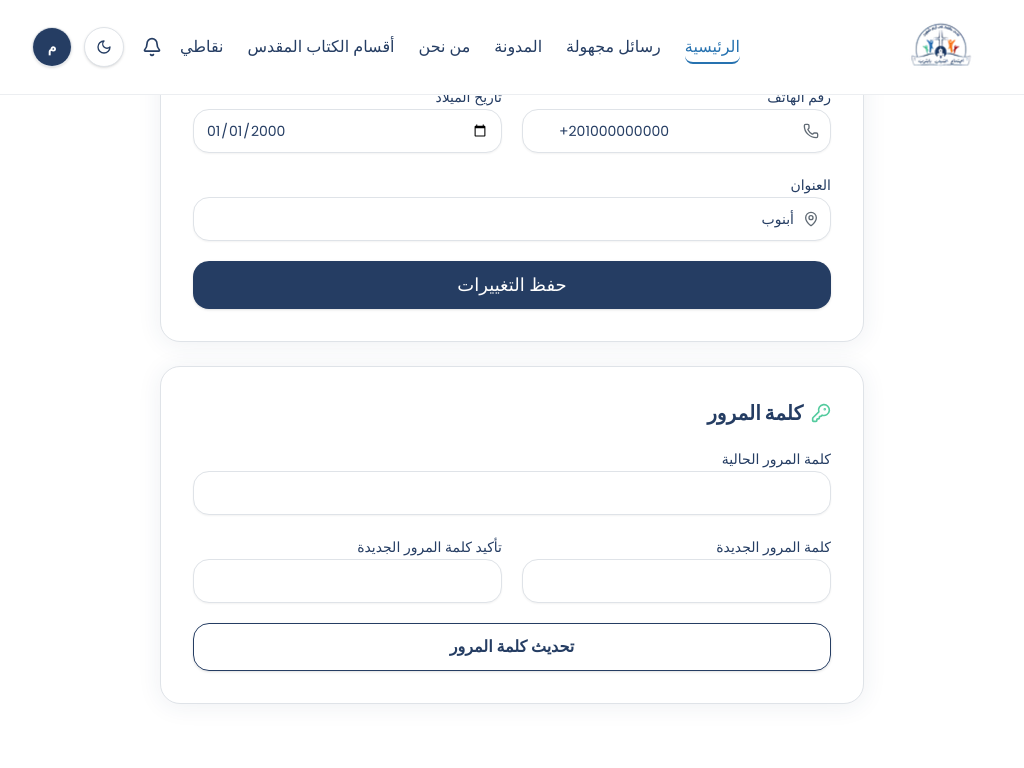
the page of the profile › refuses a password that does not match the confirmation
(page scrolled)
Step 1. Type "OldPass!2026" into the password field labelled "كلمة المرور الحالية" → {"x": 512, "y": 493}, box 193,471 -> 831,515
(page scrolled)
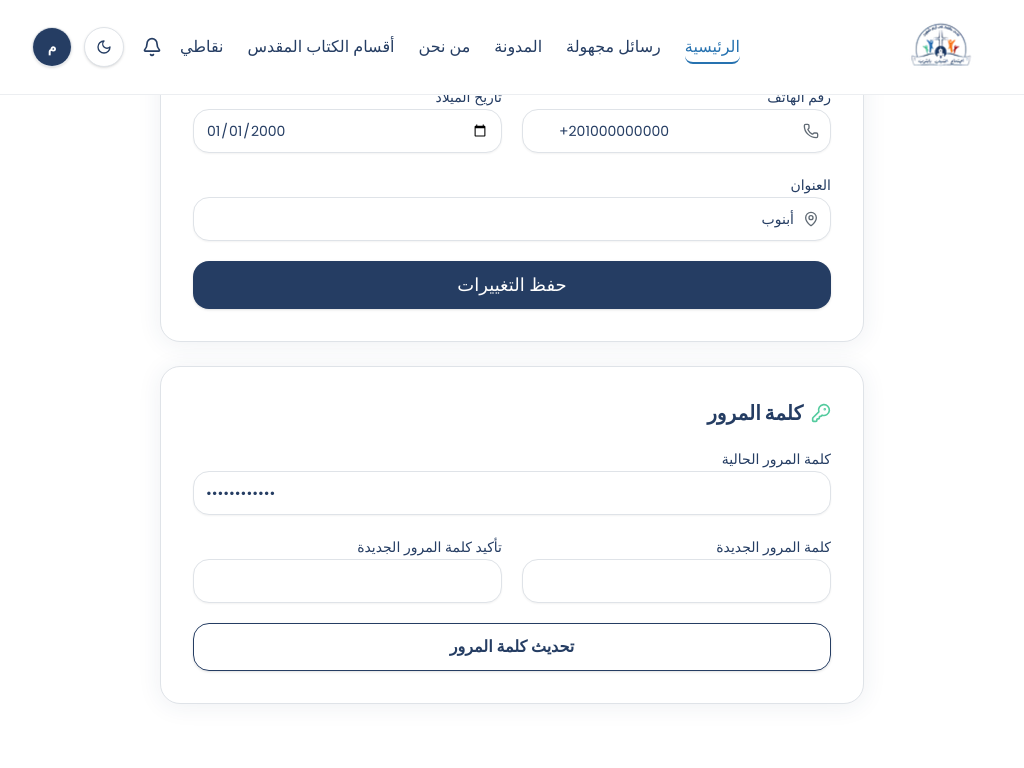
Step 2. Type "NewPass!2026" into the password field labelled "كلمة المرور الجديدة" → {"x": 676, "y": 581}, box 522,559 -> 831,603
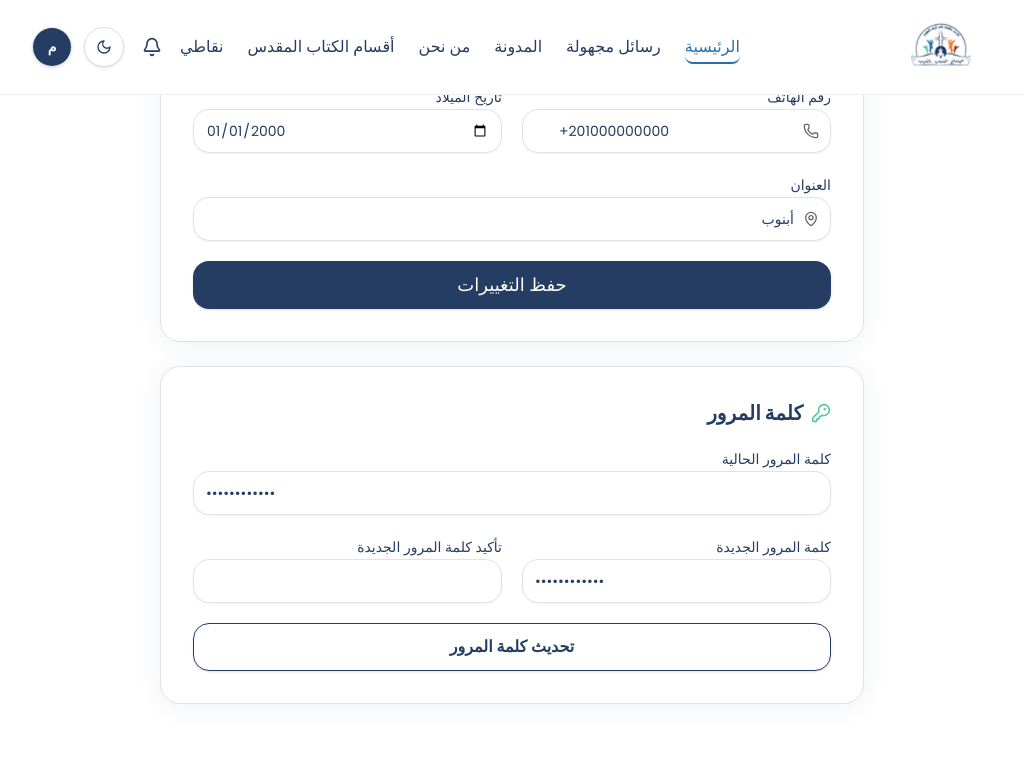
Step 3. Type "OtherPass!2026" into the password field labelled "تأكيد كلمة المرور الجديدة" → {"x": 348, "y": 581}, box 193,559 -> 502,603
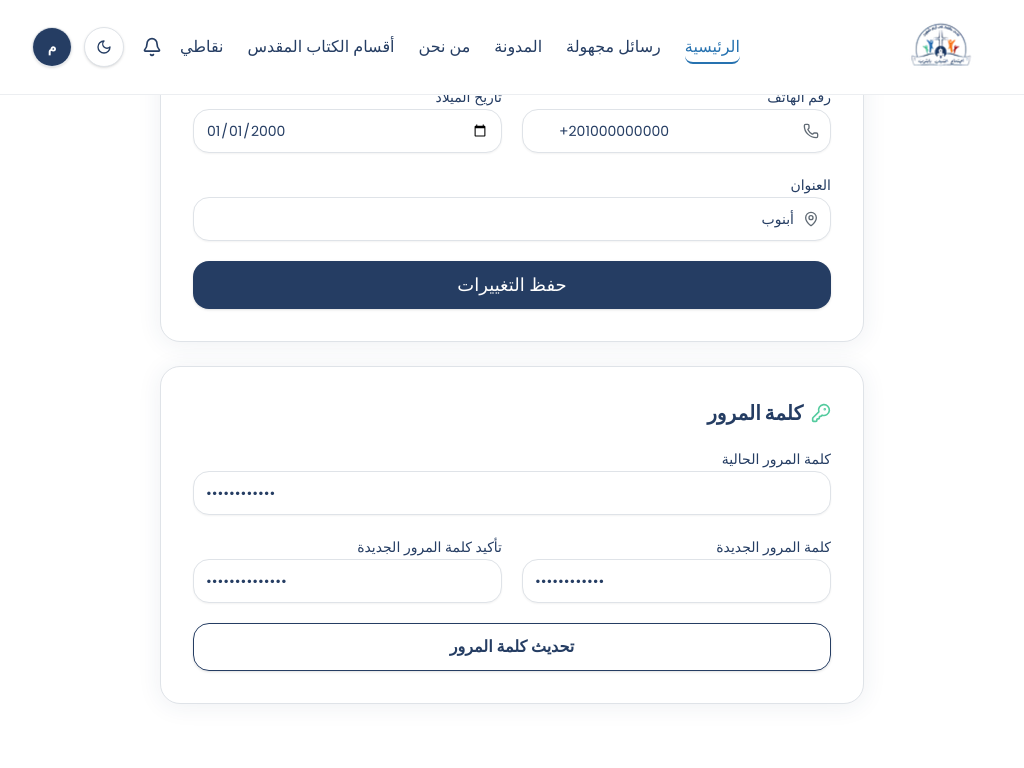
Step 4. Click the button "تحديث كلمة المرور" → {"x": 512, "y": 647}, box 193,623 -> 831,671
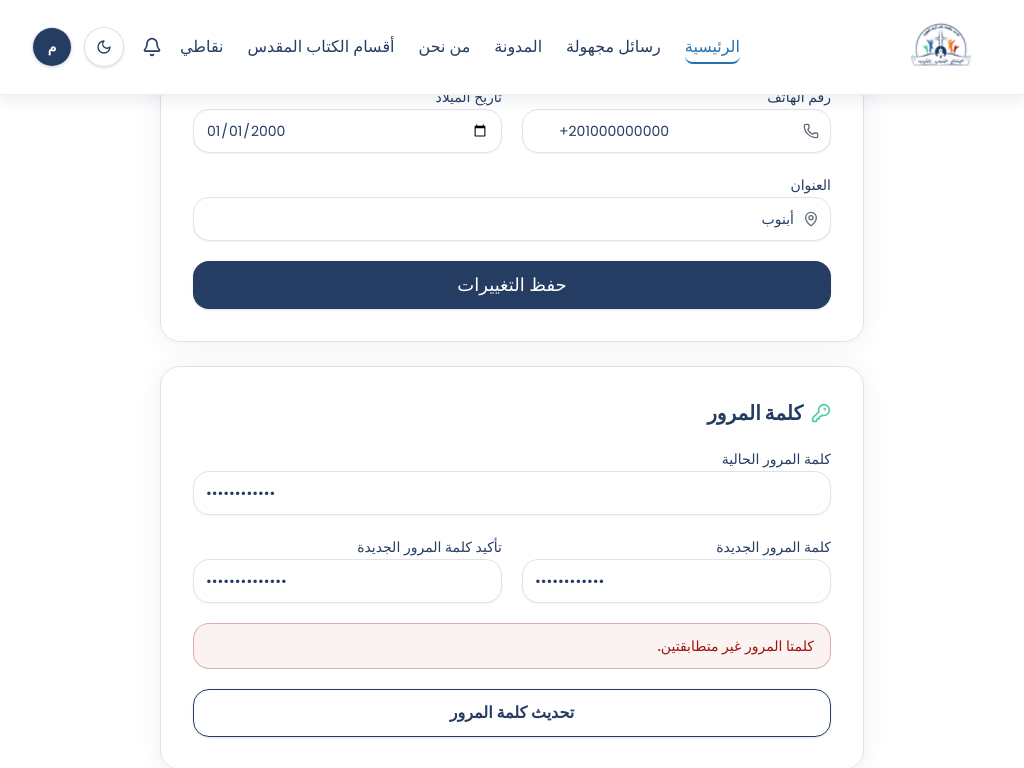
Check: the message reads "كلمتا المرور غير متطابقتين.", box 658,636 -> 814,656
